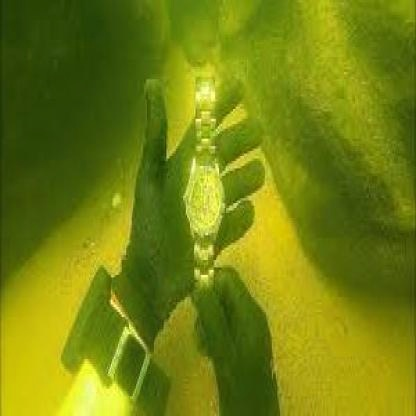misc: (181, 75, 228, 310)
